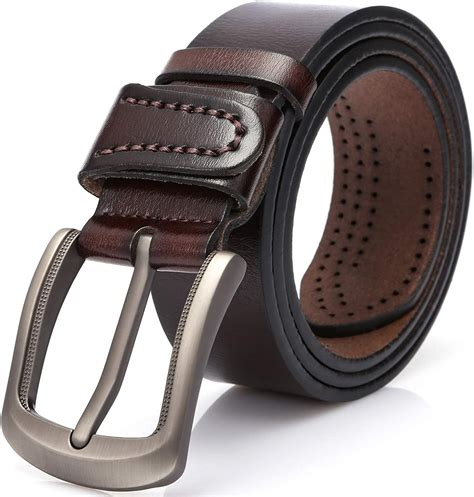cuero: (88, 2, 474, 405)
